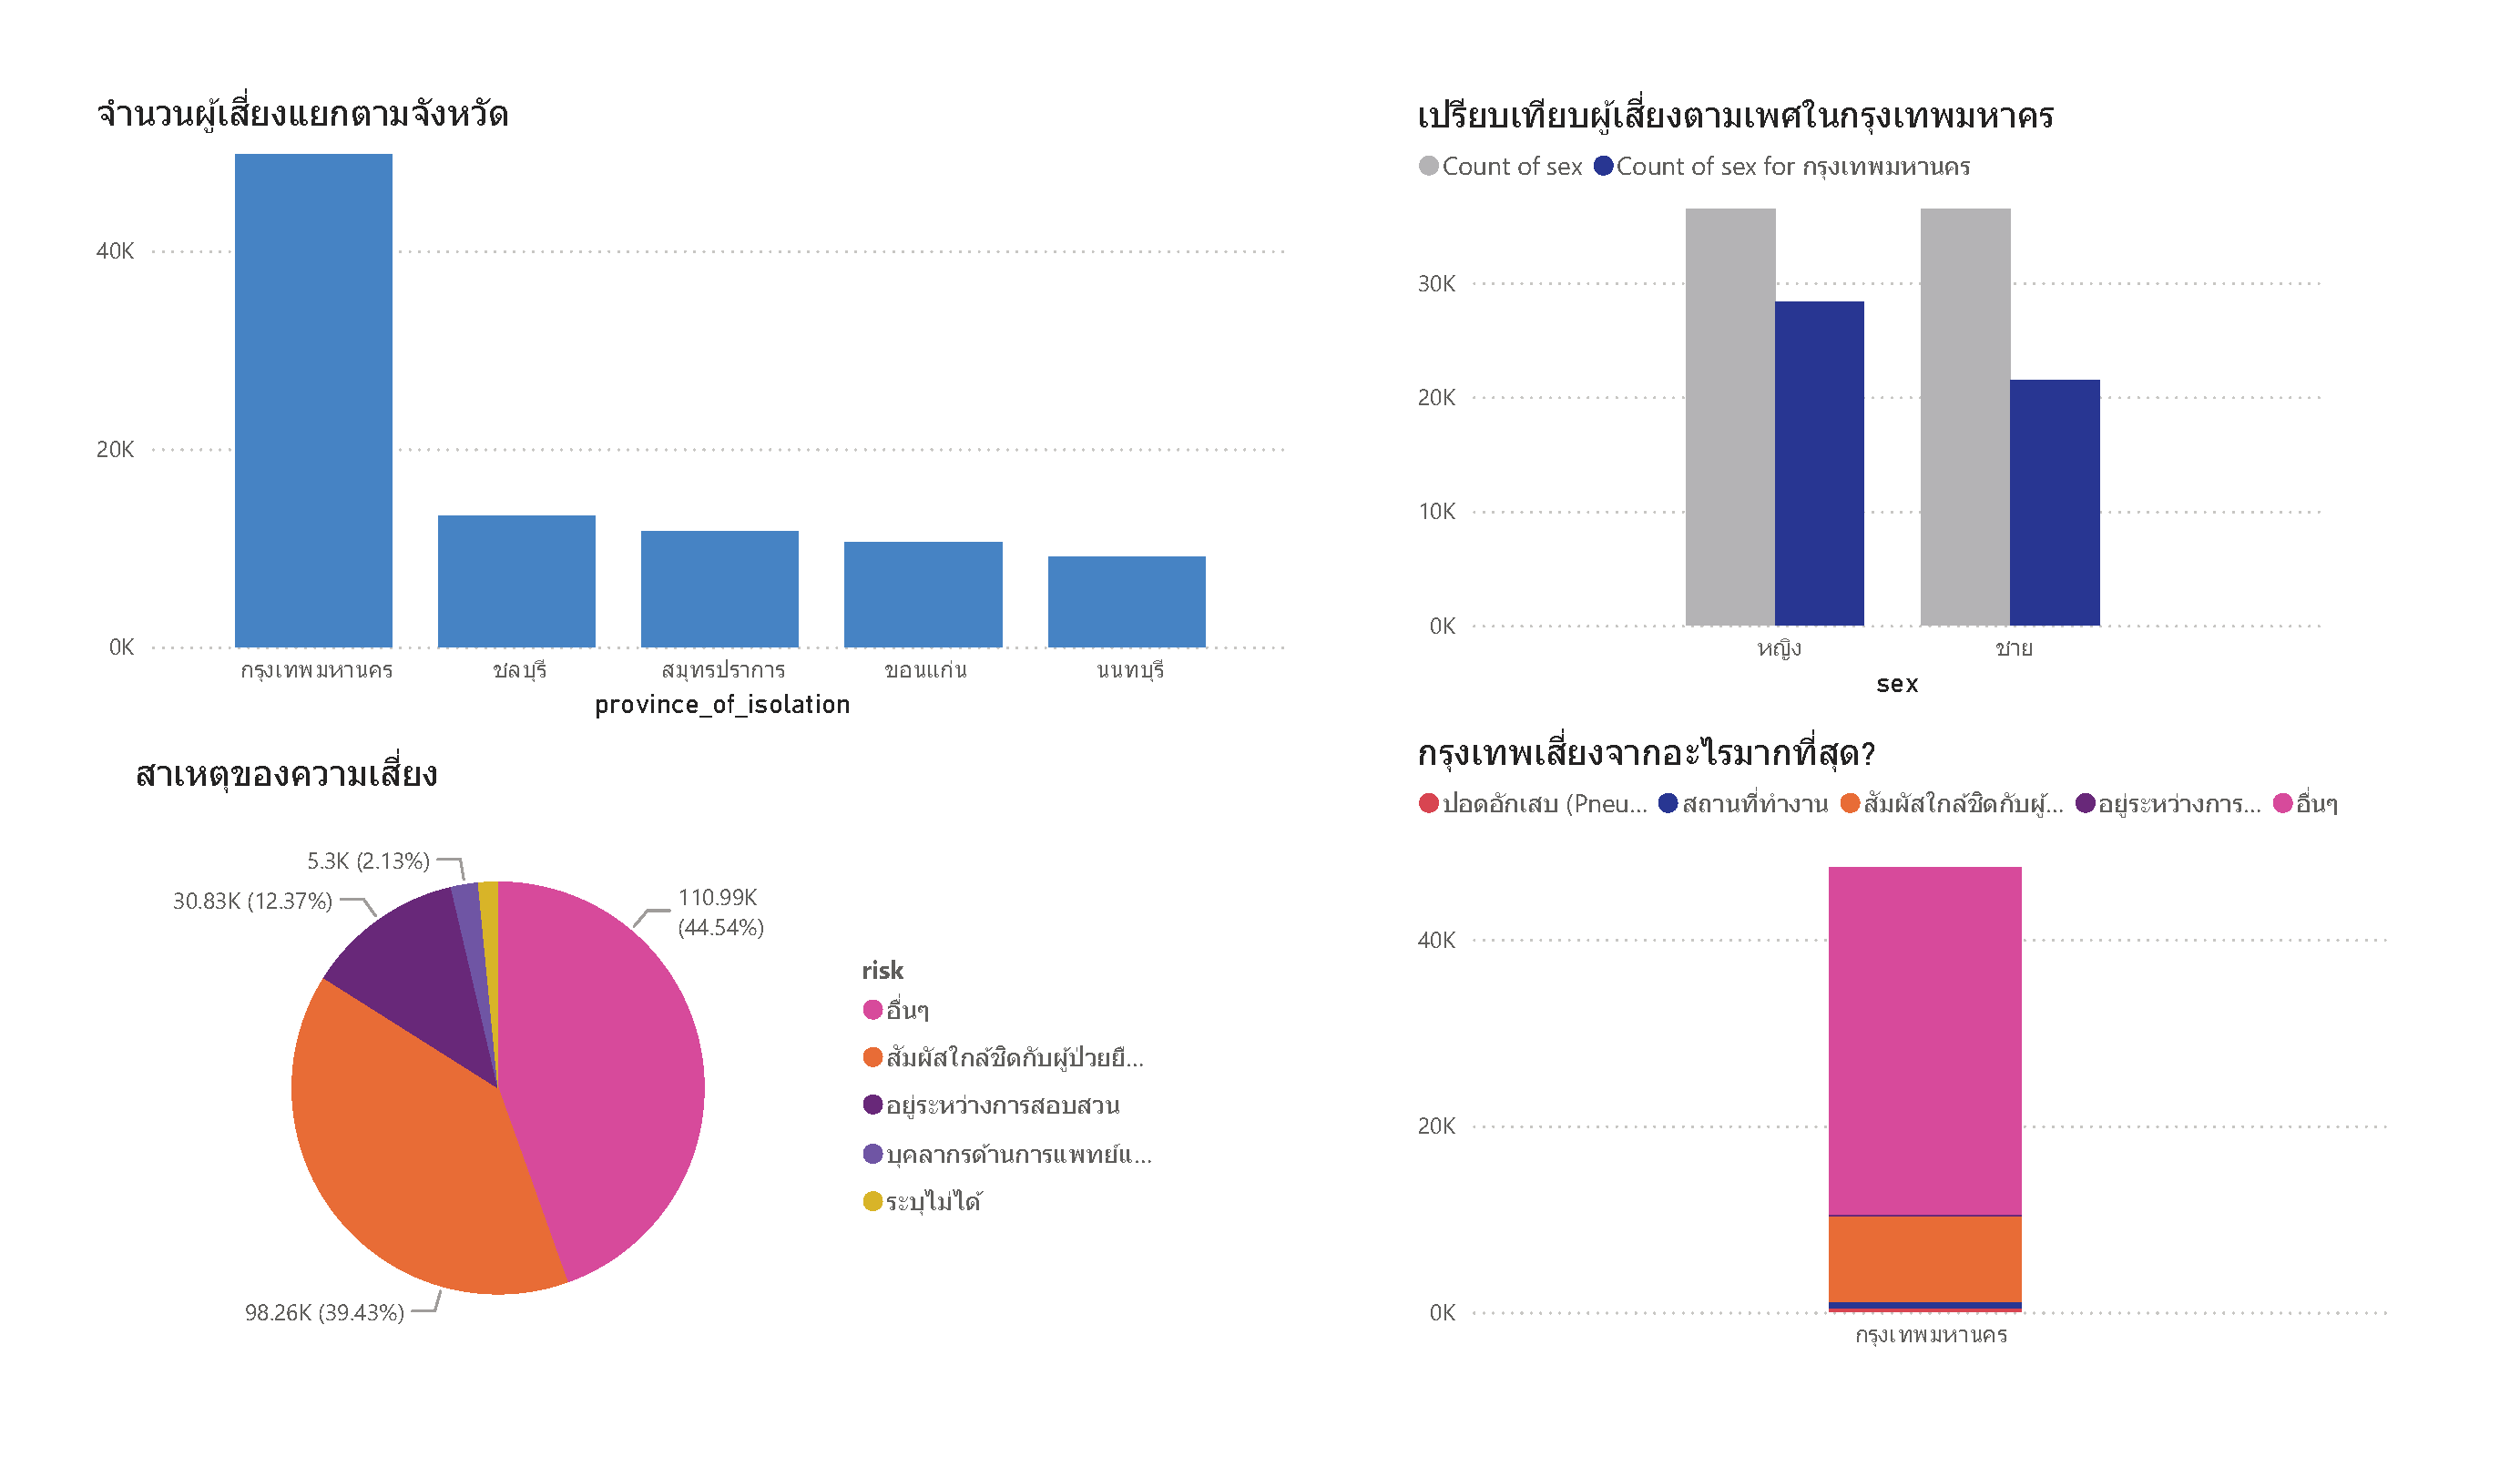

This screenshot's page, from the dashboard's own definition file:
{"tool":"powerbi","page":{"name":"Page 2","canvas":[1280,720],"ordinal":0},"visuals":[{"type":"clusteredColumnChart","title":"จำนวนผู้เสี่ยงแยกตามจังหวัด","fields":{"Y":["CountNonNull(confirmed-cases-since-120465.province_of_isolation)"],"Category":["confirmed-cases-since-120465.province_of_isolation"]},"box":[22.2,23.3,640,336.7],"z":0},{"type":"pieChart","title":"สาเหตุของความเสี่ยง","fields":{"Category":["confirmed-cases-since-120465.risk"],"Y":["CountNonNull(confirmed-cases-since-120465.risk)"]},"box":[42.2,371.1,557.8,337.8],"z":1000},{"type":"clusteredColumnChart","title":"เปรียบเทียบผู้เสี่ยงตามเพศในกรุงเทพมหาคร","fields":{"Category":["confirmed-cases-since-120465.sex"],"Y":["CountNonNull(confirmed-cases-since-120465.sex)","FilteredEval(CountNonNull(confirmed-cases-since-120465.sex), [{Condition(expr)}])"]},"box":[717.5,23.8,486.2,325],"z":2000},{"type":"columnChart","title":"กรุงเทพเสี่ยงจากอะไรมากที่สุด?","fields":{"Series":["confirmed-cases-since-120465.risk"],"Category":["confirmed-cases-since-120465.province_of_isolation"],"Y":["CountNonNull(confirmed-cases-since-120465.risk)"]},"box":[718,360,521,338],"z":3000}]}

Visuals, with their boxes on the page's 1280x720 design canvas (x1, y1, x2, y2). These are canvas units, not pixel positions in the 2520x1457 screenshot, which may show the page scaled, cropped or inside an application window:
"จำนวนผู้เสี่ยงแยกตามจังหวัด" clusteredColumnChart: bbox=(22, 23, 662, 360)
"สาเหตุของความเสี่ยง" pieChart: bbox=(42, 371, 600, 709)
"เปรียบเทียบผู้เสี่ยงตามเพศในกรุงเทพมหาคร" clusteredColumnChart: bbox=(718, 24, 1204, 349)
"กรุงเทพเสี่ยงจากอะไรมากที่สุด?" columnChart: bbox=(718, 360, 1239, 698)
